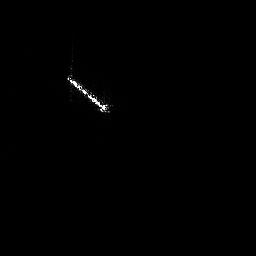ship: (66, 54, 113, 113)
